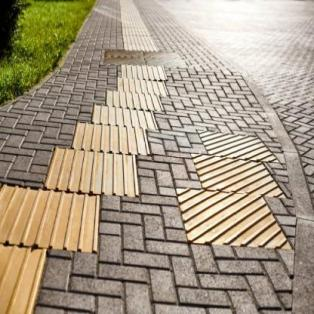Podoctatil: (0, 63, 170, 313), (173, 128, 293, 248)
